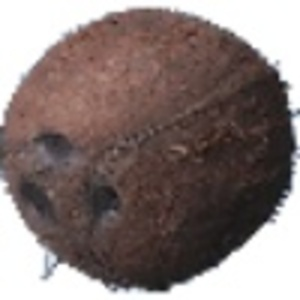coco: (1, 7, 300, 295)
